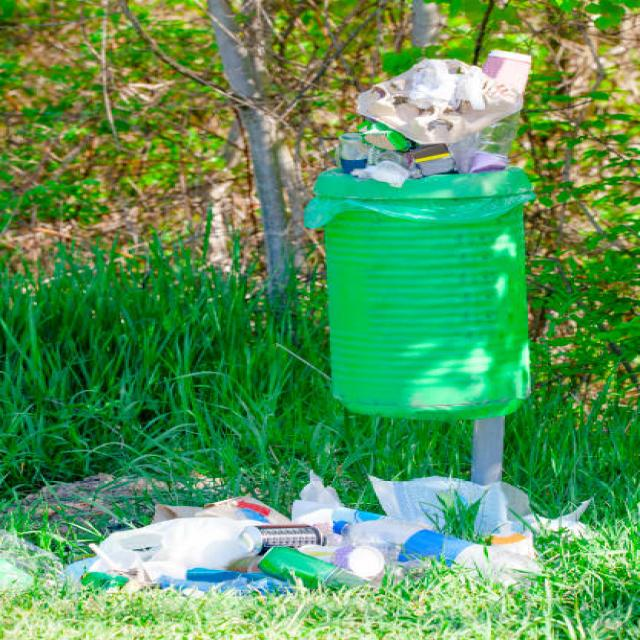metal: (235, 508, 324, 551)
plastic: (298, 27, 563, 428)
